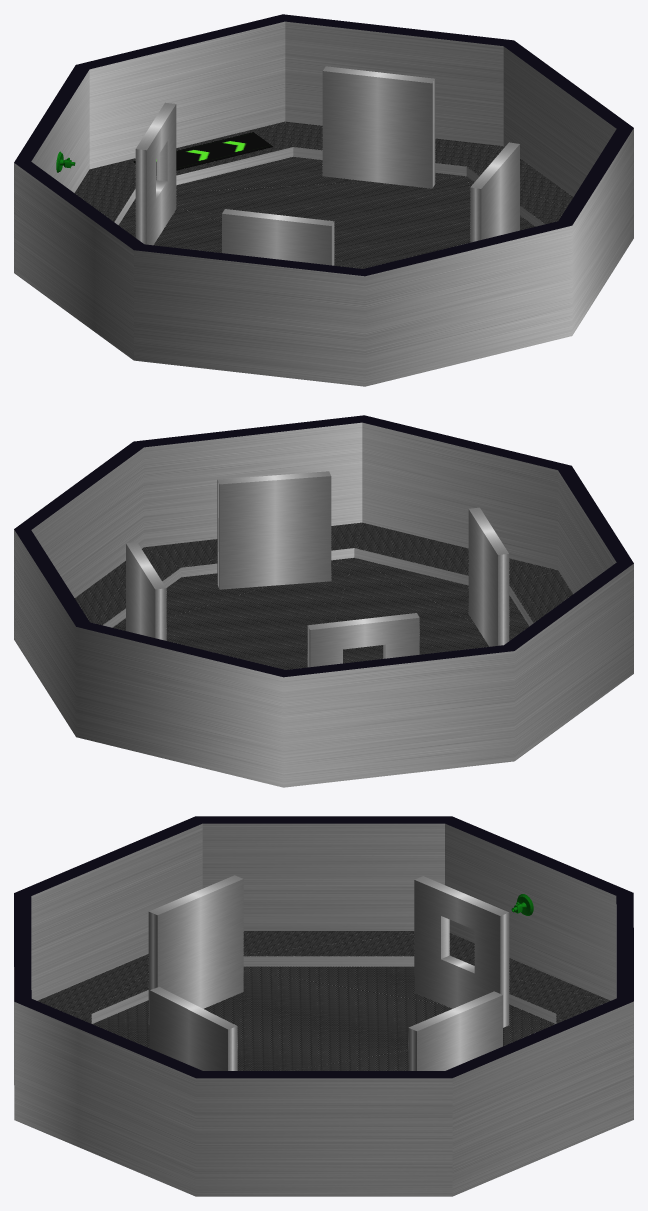
File: factoryMap01.fbx
The picture shows the model from 3 angles, top to bottom: view 1: azimuth 30°, elevation 25°; view 2: azimuth 150°, elevation 25°; view 3: azimuth 270°, elevation 25°; orthographic projection. The views are drawn at different scales.
Parts seen in each view (by area): view 1: Cylinder001, floor, Object001, Box004, Box002, Box001, Box003, Box005; view 2: Cylinder001, floor, Object001, Box003, Box002, Box001, Box004; view 3: Cylinder001, floor, Object001, Box002, Box001, Box004, Box003.
Boxes of the visible parts, x1=… form: Cylinder001: x1=14, y1=21, x2=633, y2=386; floor: x1=74, y1=121, x2=573, y2=268; Object001: x1=14, y1=14, x2=633, y2=276; Box004: x1=322, y1=66, x2=435, y2=188; Box002: x1=222, y1=209, x2=334, y2=265; Box001: x1=135, y1=102, x2=176, y2=245; Box003: x1=470, y1=142, x2=519, y2=242; Box005: x1=133, y1=132, x2=272, y2=175; Cylinder001: x1=14, y1=422, x2=633, y2=787; floor: x1=74, y1=522, x2=572, y2=669; Object001: x1=14, y1=415, x2=633, y2=677; Box003: x1=217, y1=471, x2=331, y2=589; Box002: x1=468, y1=507, x2=509, y2=646; Box001: x1=307, y1=613, x2=419, y2=667; Box004: x1=126, y1=542, x2=166, y2=640; Cylinder001: x1=14, y1=823, x2=633, y2=1196; floor: x1=37, y1=931, x2=610, y2=1070; Object001: x1=14, y1=816, x2=633, y2=1078; Box002: x1=148, y1=875, x2=243, y2=1024; Box001: x1=414, y1=876, x2=509, y2=1027; Box004: x1=408, y1=991, x2=502, y2=1070; Box003: x1=150, y1=987, x2=237, y2=1070.
Bounding box in the file's own units: 142 × 33.2 × 142.
